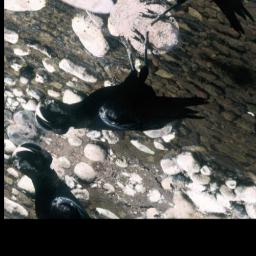Crow: (27, 1, 228, 195)
